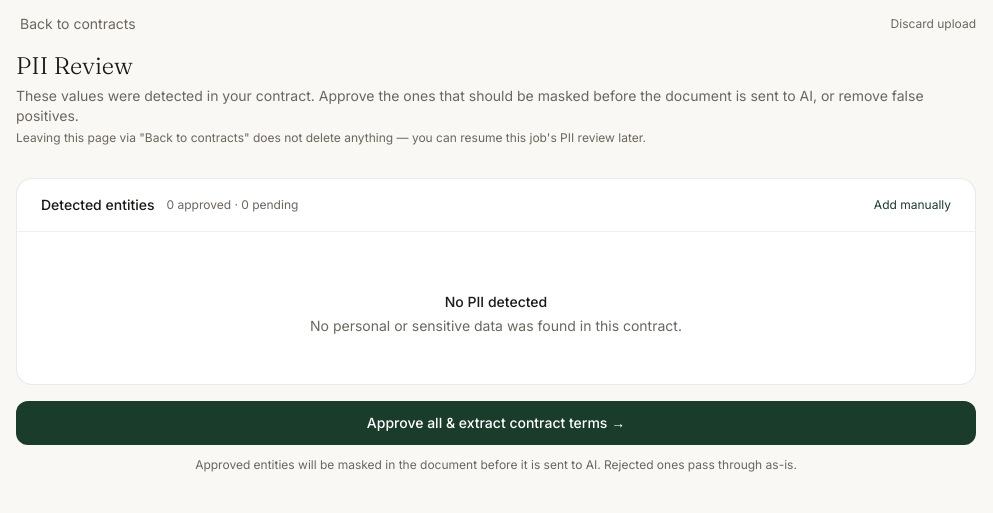
PIIReviewPage — escape routes › shows an error and does not navigate if discard fails
Expected: the text "No PII detected" is shown, [445,293,547,310]
Click the button with aria-label "Discard this contract upload". click: click(931, 24)
box: [887,16,976,32]
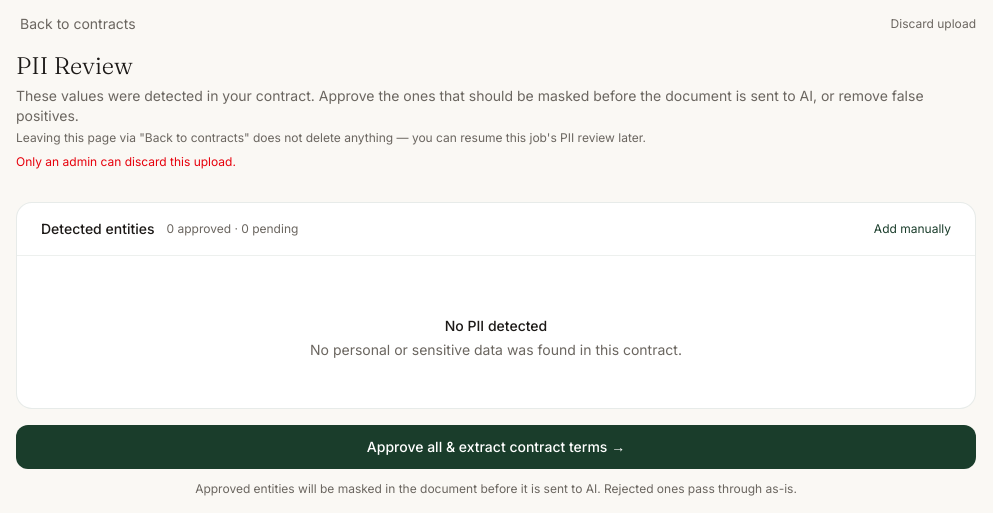
Now the text "Only an admin can discard this upload." is shown, box [16,154,236,169]
